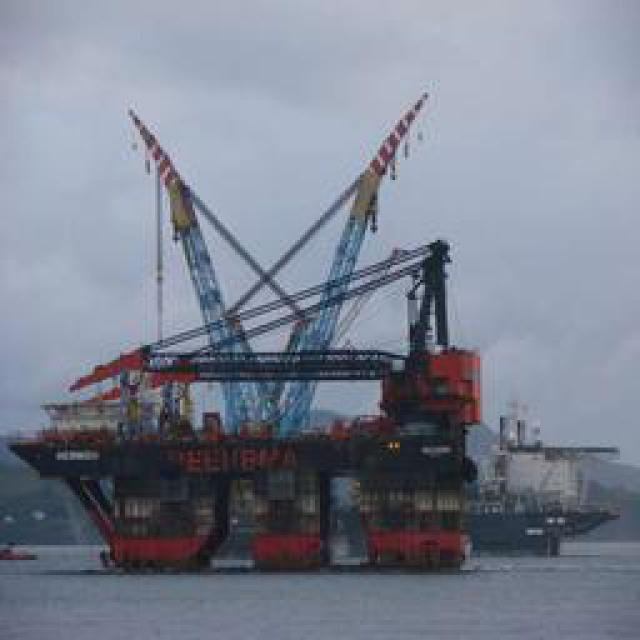Ship: (32, 73, 505, 571)
